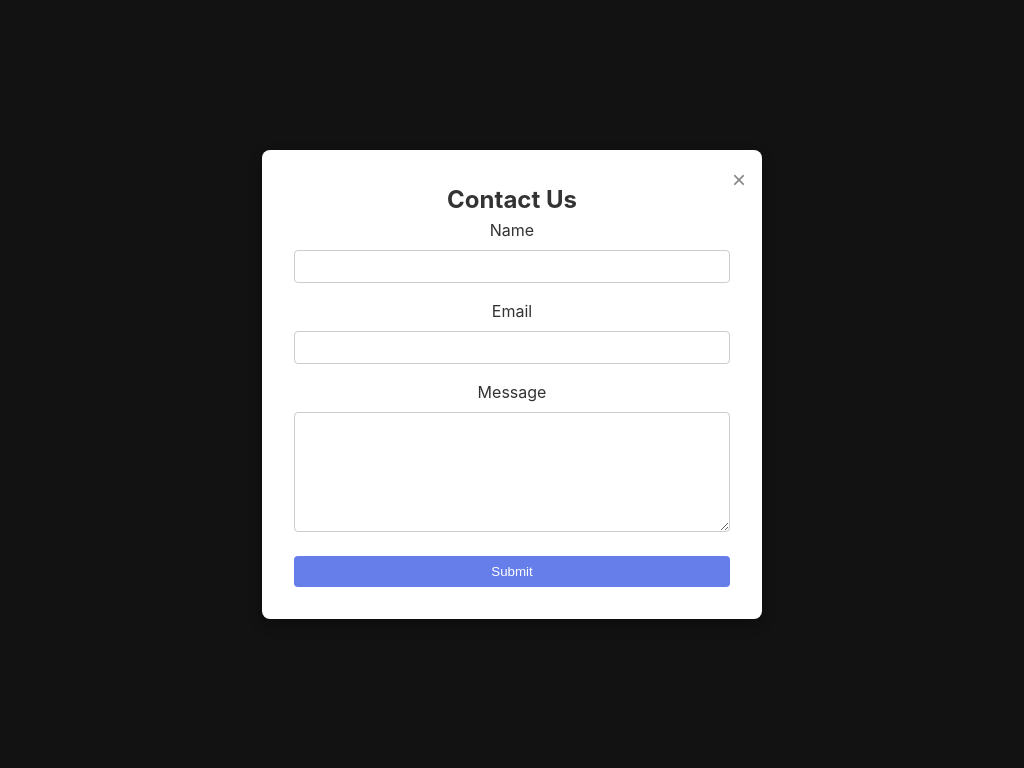
Scenario: ContactUsModal › submits contact form, shows confirmation popup, and clears fields
Type "Alex" into the field labelled "Name".
click(512, 266); type("Alex")  # box [294,250,730,282]
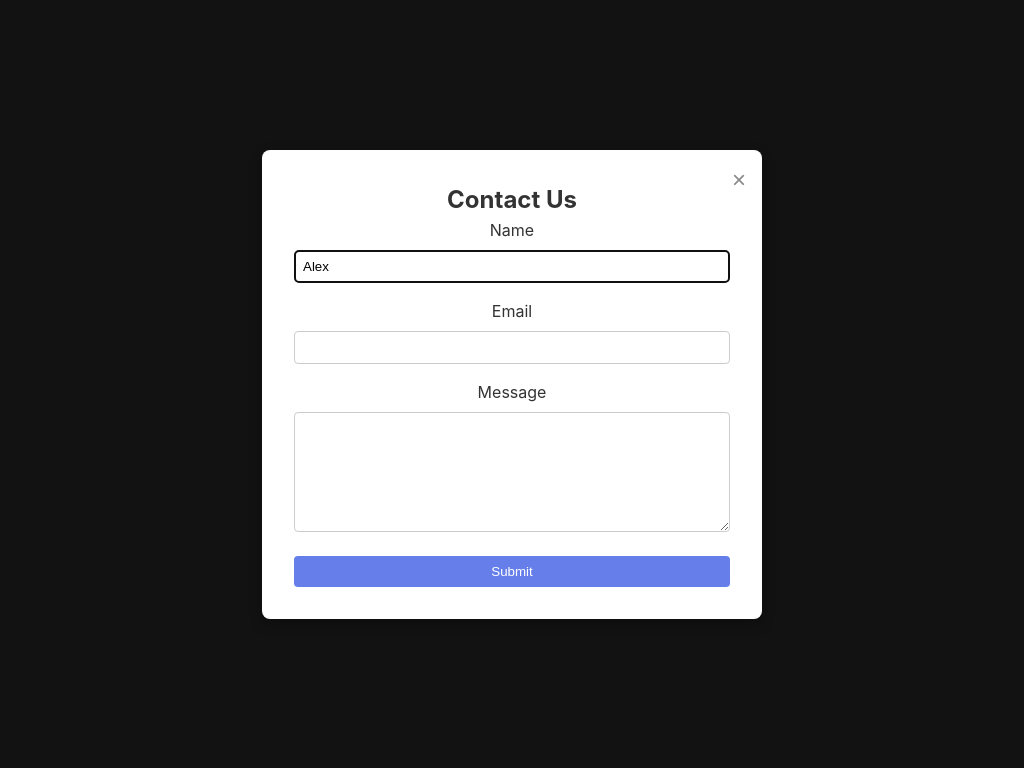
Type "alex@example.com" into the field labelled "Email".
click(512, 347); type("alex@example.com")  # box [294,330,730,364]
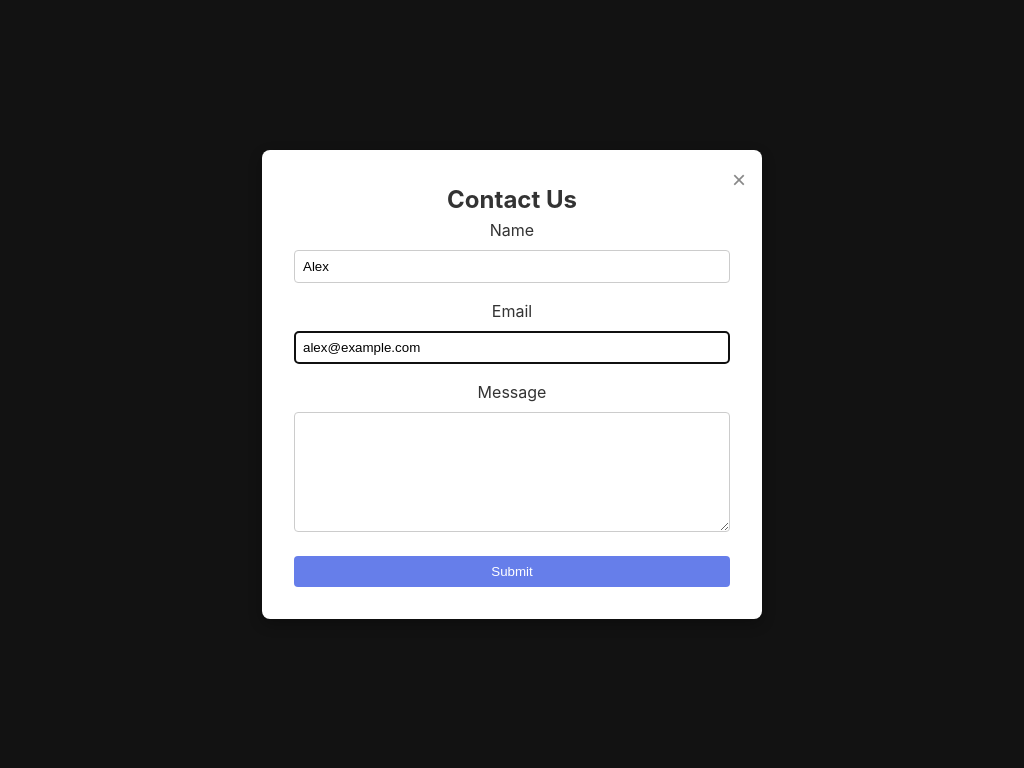
Type "Need help with my order" into the text box labelled "Message".
click(512, 472); type("Need help with my order")  # box [294,412,730,532]
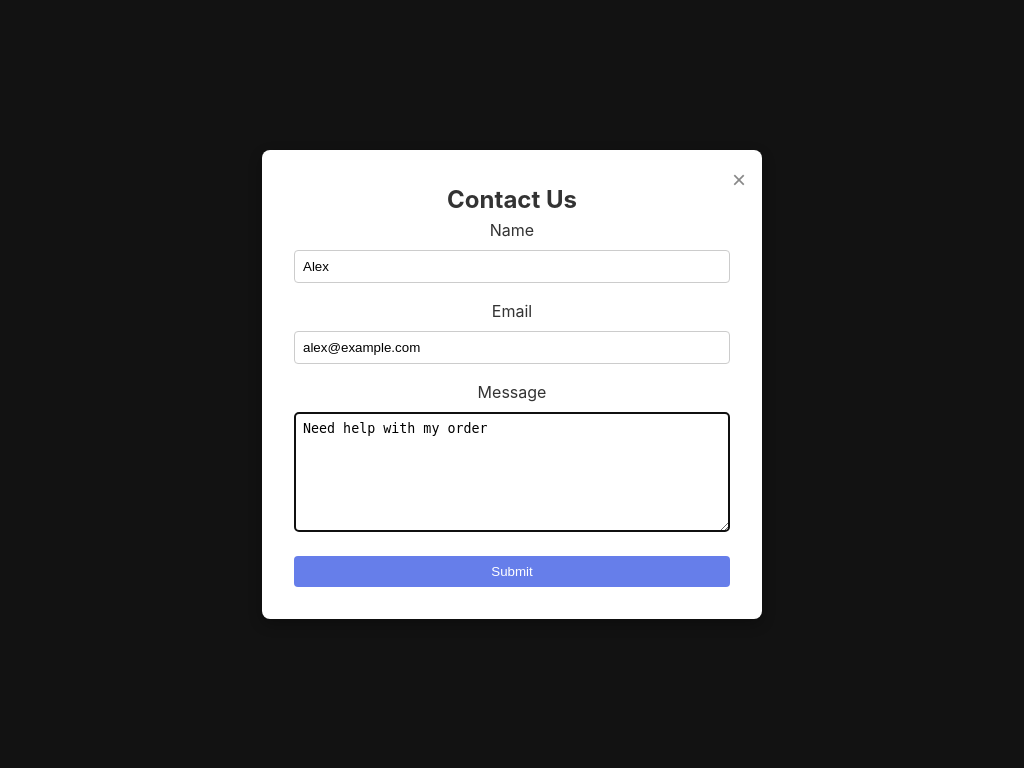
Click the button "Submit".
click(512, 571)  # box [294,556,730,586]
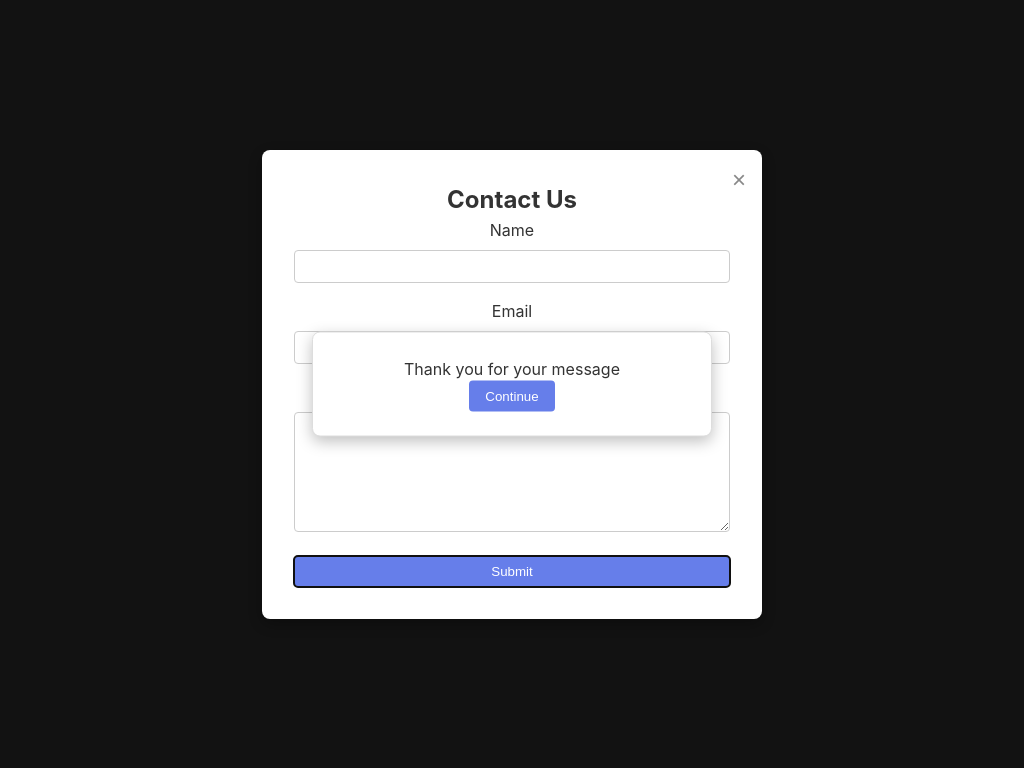
Result: the text "Thank you for your message" is shown at [404,358,620,378]
Result: the button "Continue" is shown
Result: the field labelled "Name" is empty at [294,250,730,282]
Click the button "Continue".
click(512, 396)  # box [469,380,555,412]
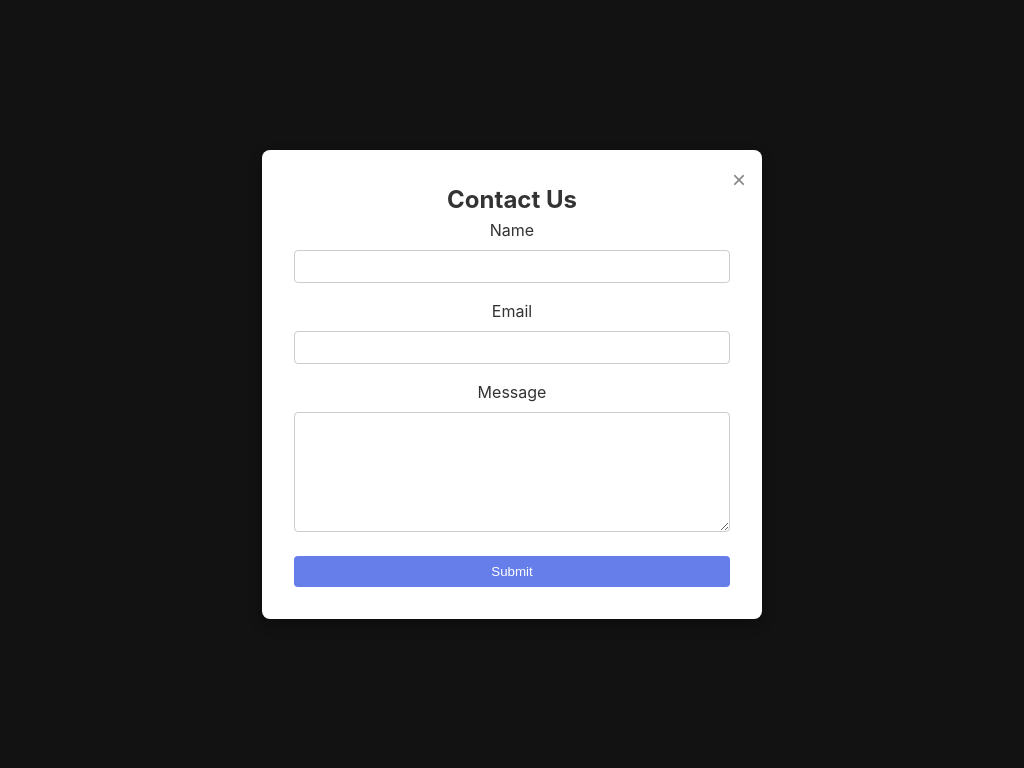
Result: the text "Thank you for your message" is gone
